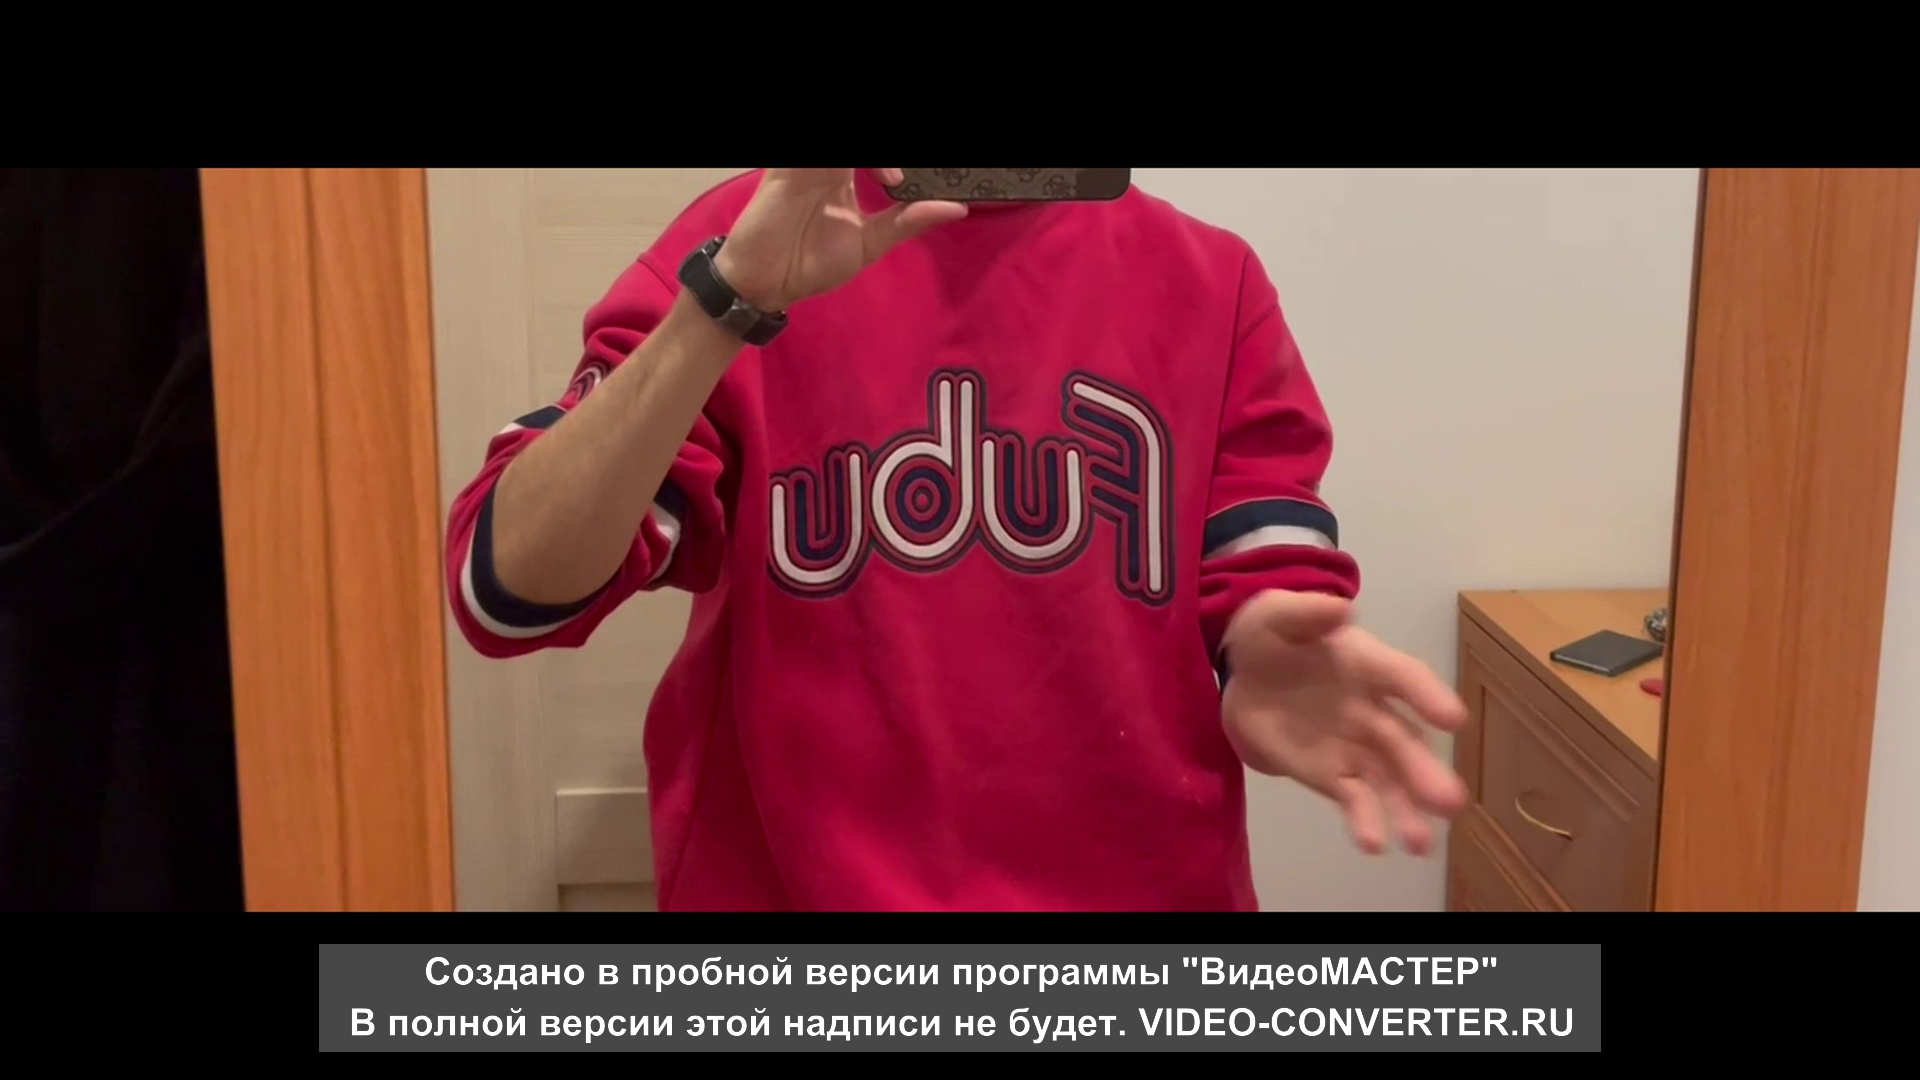Ладонь: (1222, 588, 1464, 856)
